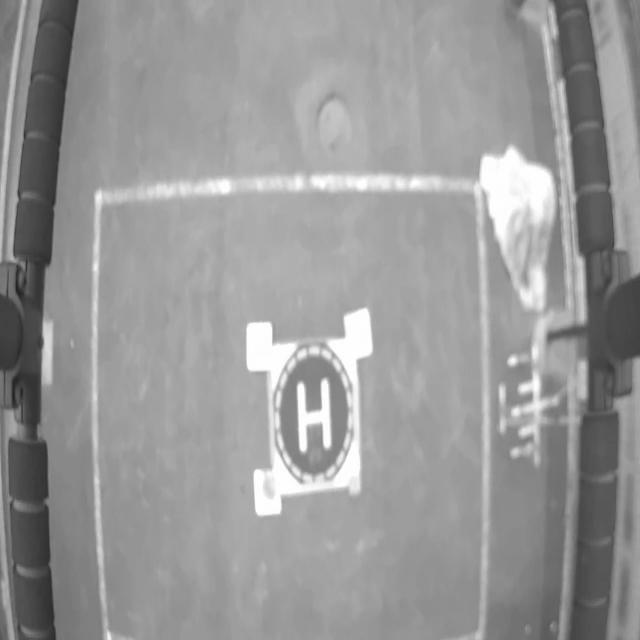Helipad: (296, 378, 332, 453)
